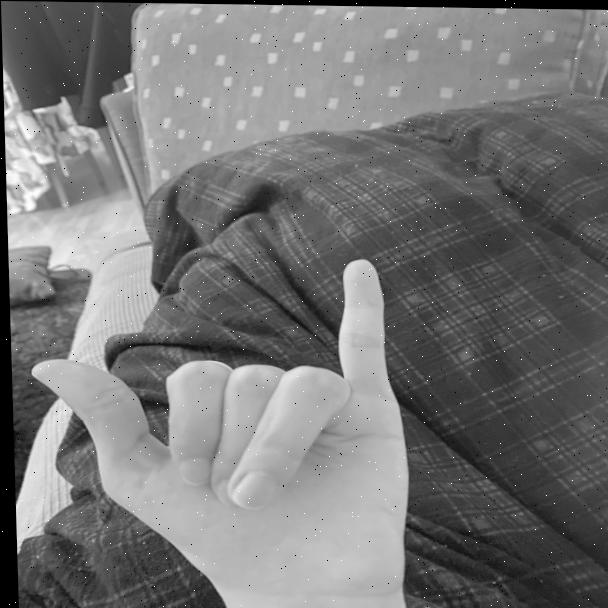five: (18, 250, 417, 592)
